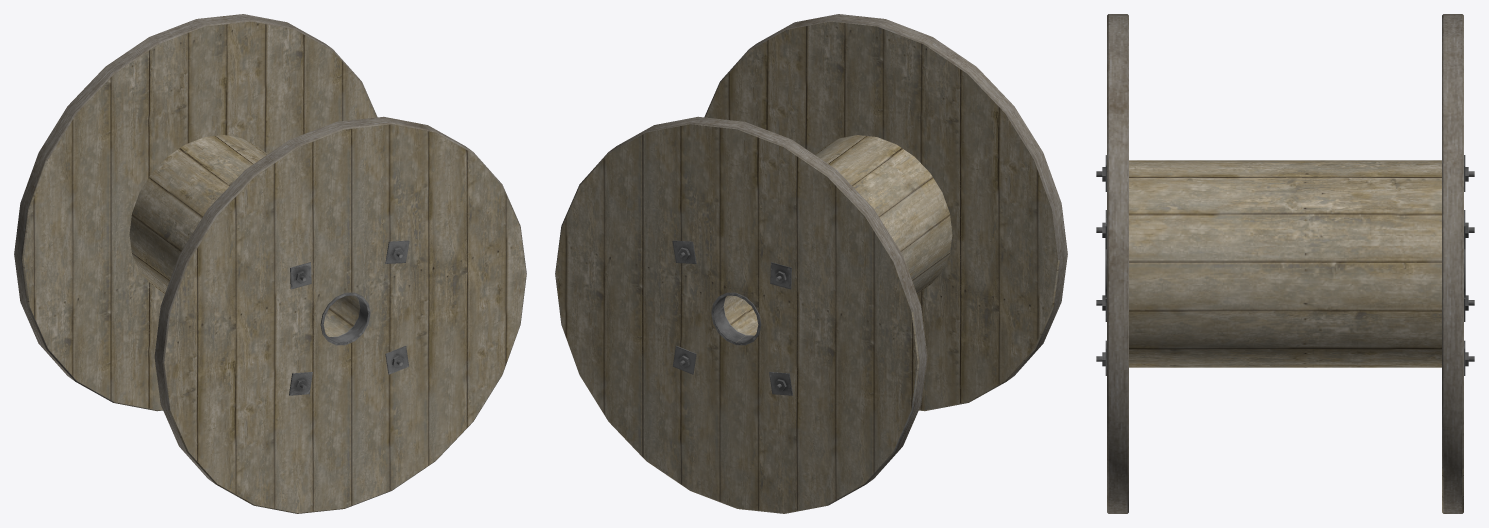
The model's file is CableDrum.fbx.
3 renders of one model, left to right at view 1: azimuth 30°, elevation 25°; view 2: azimuth 150°, elevation 25°; view 3: azimuth 270°, elevation 25°, orthographic. The views are drawn at different scales.
Parts seen in each view (by area): view 1: Cylinder_7; view 2: Cylinder_7; view 3: Cylinder_7.
Boxes of the visible parts, x1=… form: Cylinder_7: x1=14, y1=14, x2=526, y2=513; Cylinder_7: x1=555, y1=14, x2=1067, y2=513; Cylinder_7: x1=1096, y1=14, x2=1474, y2=513.
Size of the model in its own units: 101 by 101 by 75.99.
1 material, 1 textured.
